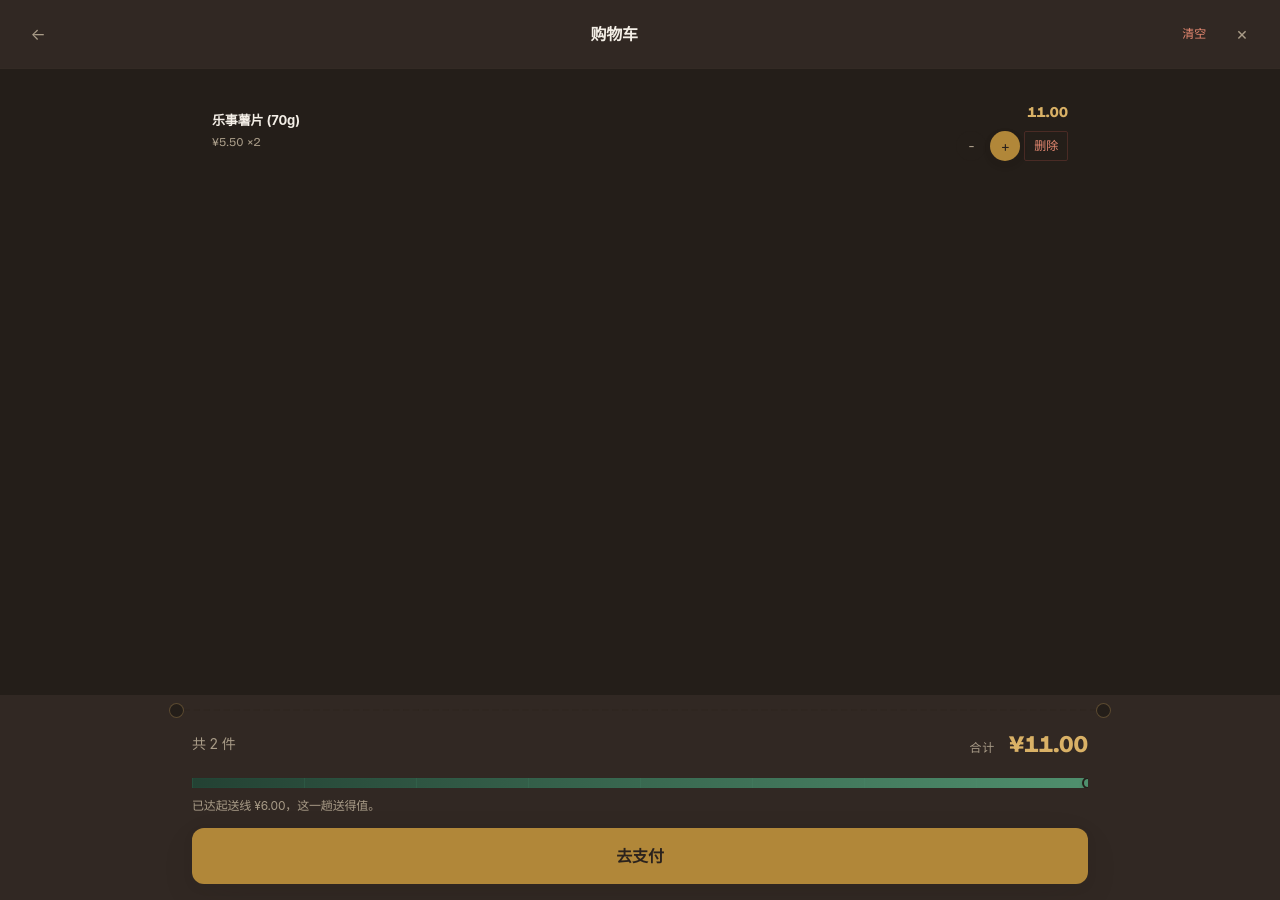
Test case: CartPage 购物车页 › 清空：只点第一下进入待确认态，不写空购物车
This screenshot has width=1280, height=900.
Step 1. Click the button with aria-label "清空购物车" → (1194,34), box [1172, 20, 1216, 48]
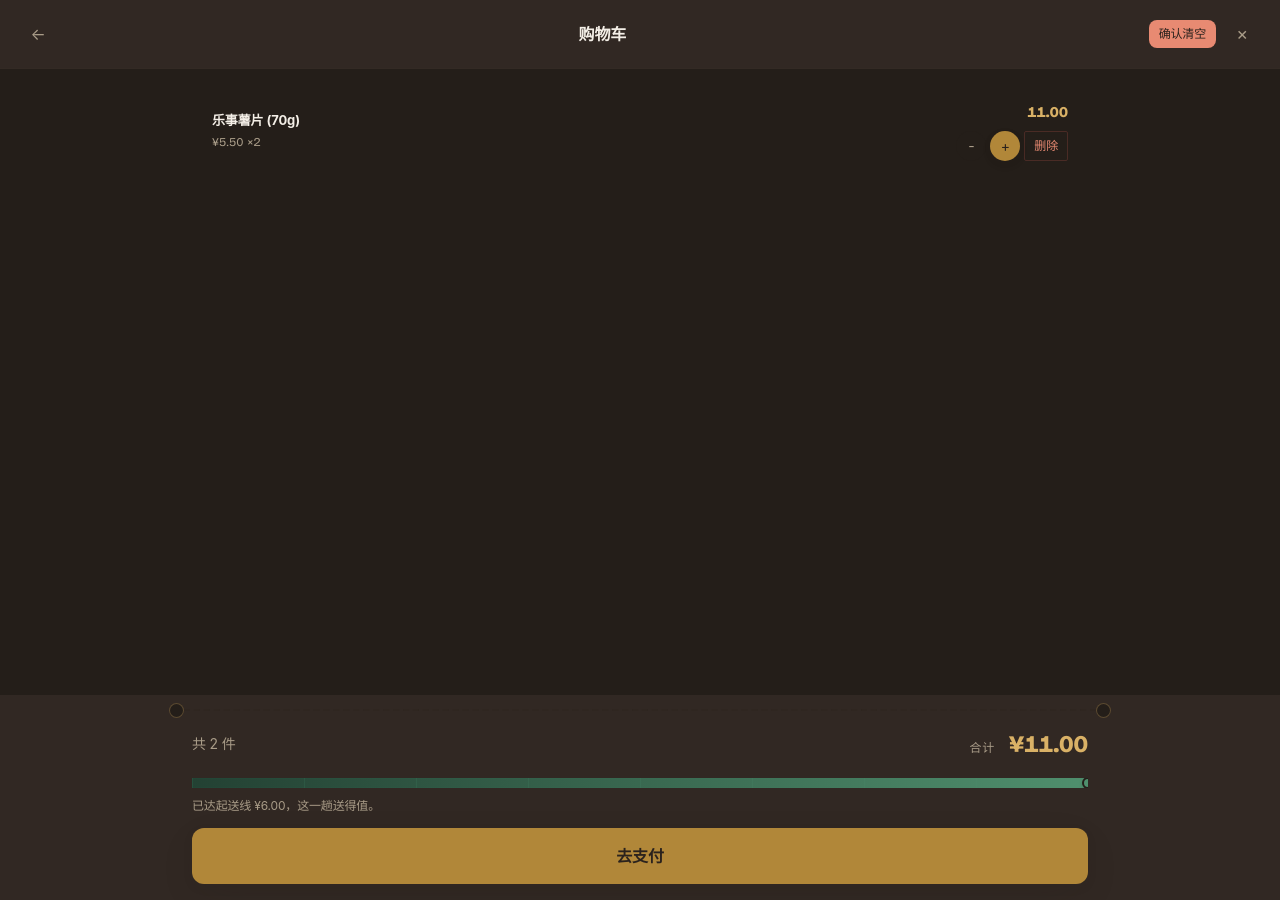
Expected: the button with aria-label "确认清空购物车" is shown, [1149, 20, 1216, 48]
